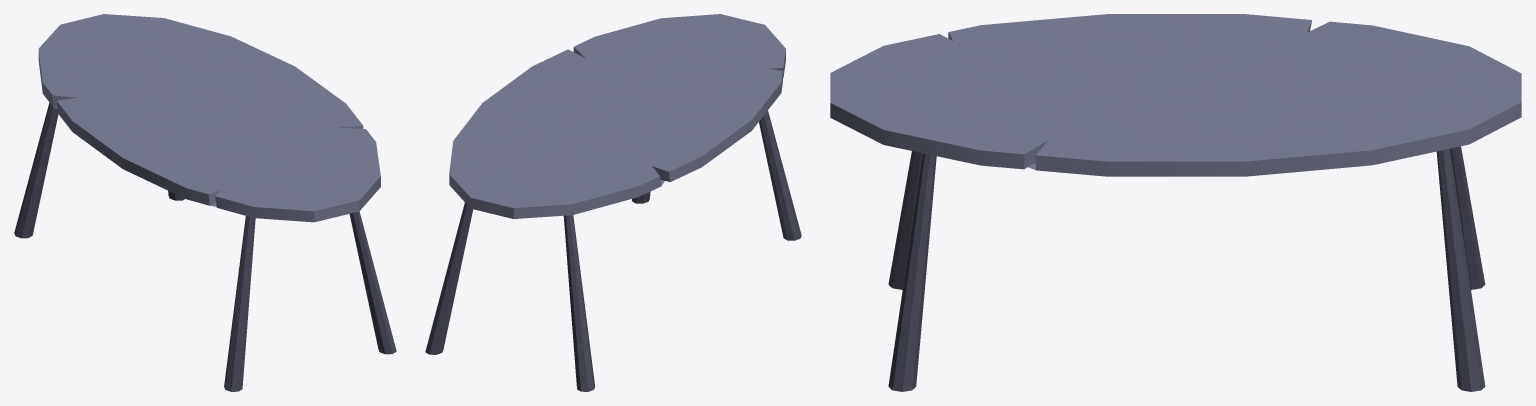
File: Table_03_03_Damaged.fbx
The picture shows the model from 3 angles, left to right: view 1: azimuth 30°, elevation 25°; view 2: azimuth 150°, elevation 25°; view 3: azimuth 270°, elevation 25°; orthographic projection. The views are drawn at different scales.
Parts seen in each view (by area): view 1: Table_03_03_Damaged; view 2: Table_03_03_Damaged; view 3: Table_03_03_Damaged.
Part boxes in pixels (x1,y1,x2,y2): Table_03_03_Damaged: [14, 14, 396, 391]; Table_03_03_Damaged: [425, 14, 801, 391]; Table_03_03_Damaged: [830, 14, 1521, 391].
Bounding box in the file's own units: 1.07 × 0.8341 × 2.11.
